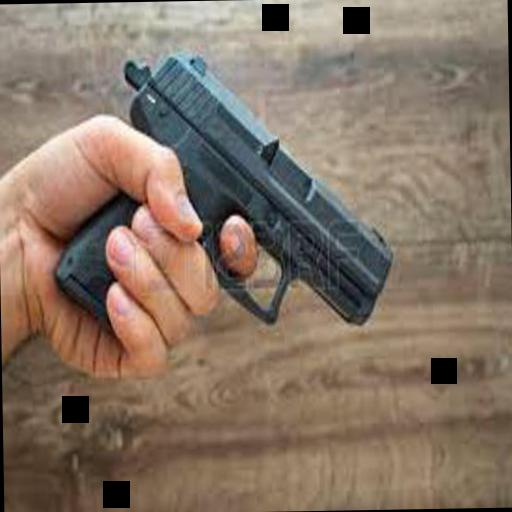Handgun: (46, 46, 390, 334)
